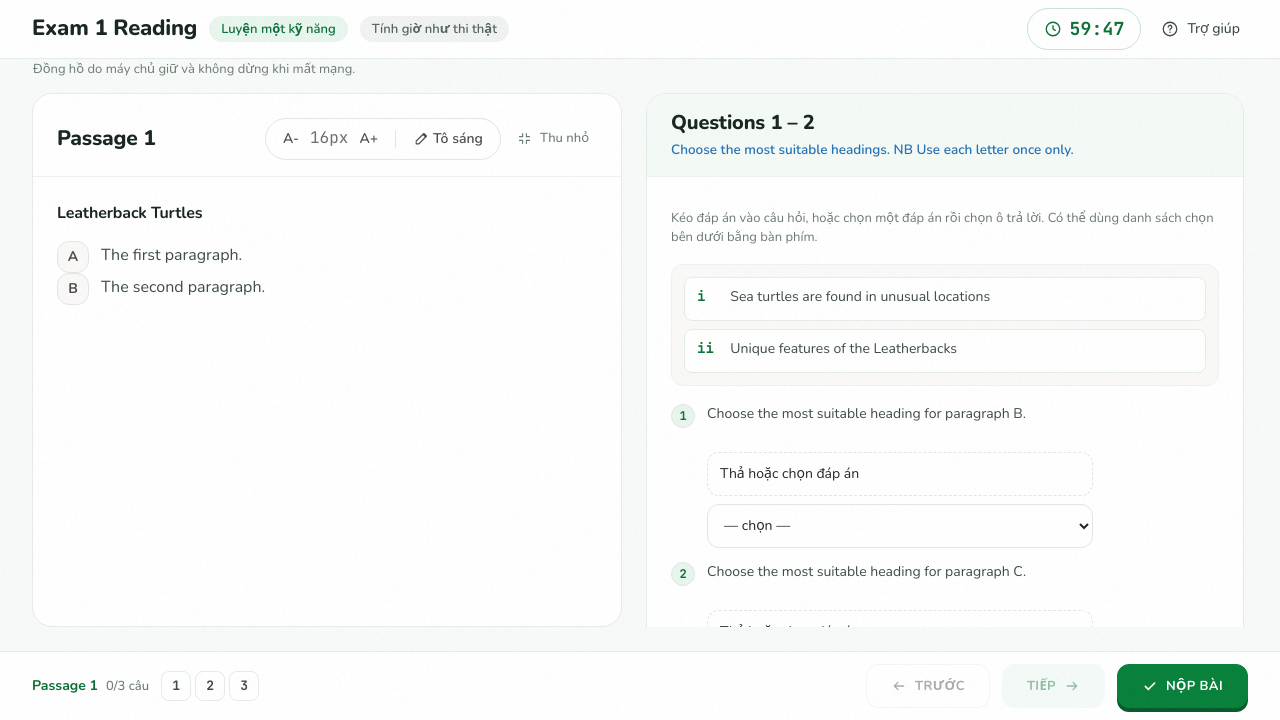
it: assigns a matching answer by tap/click without opening the select
expect the heading "Leatherback Turtles" is shown: met, box [57,202,202,224]
Click the button named "iSea turtles are found in unusual locations": (945, 299) [684,277,1206,321]
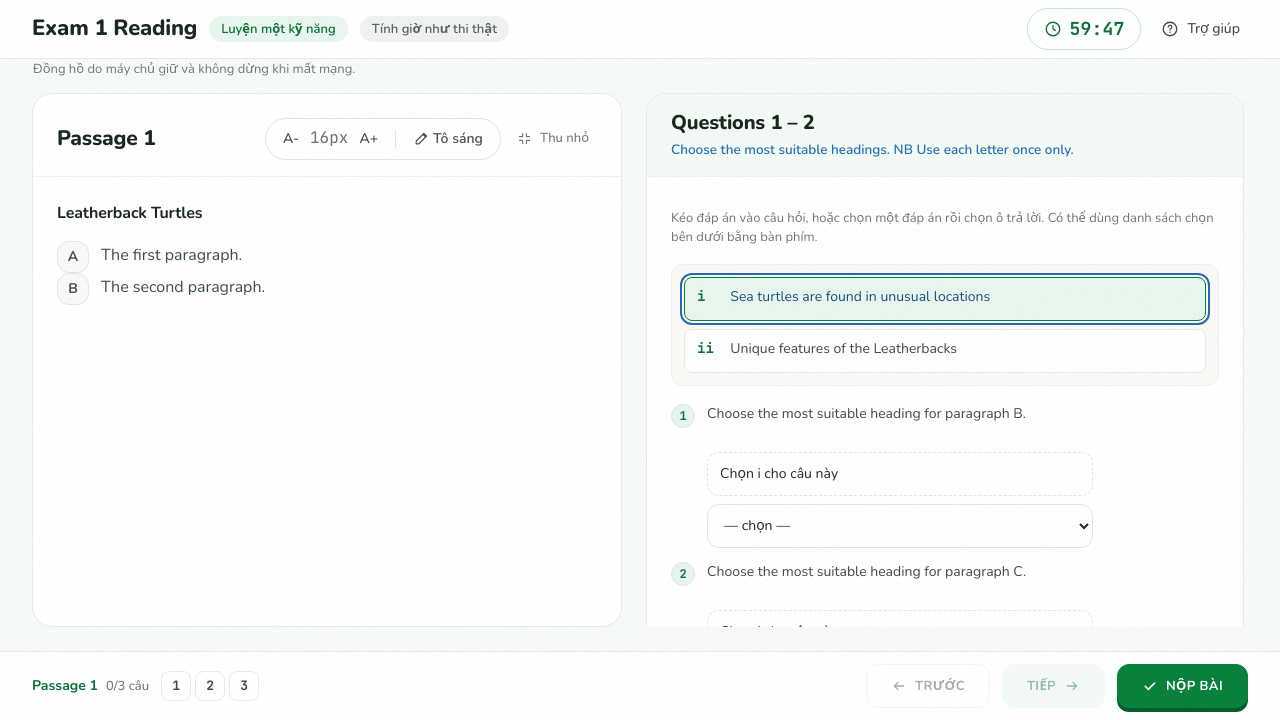
Click the button named "Choose the most suitable heading for paragraph B": (779, 474) [707,452,1094,496]
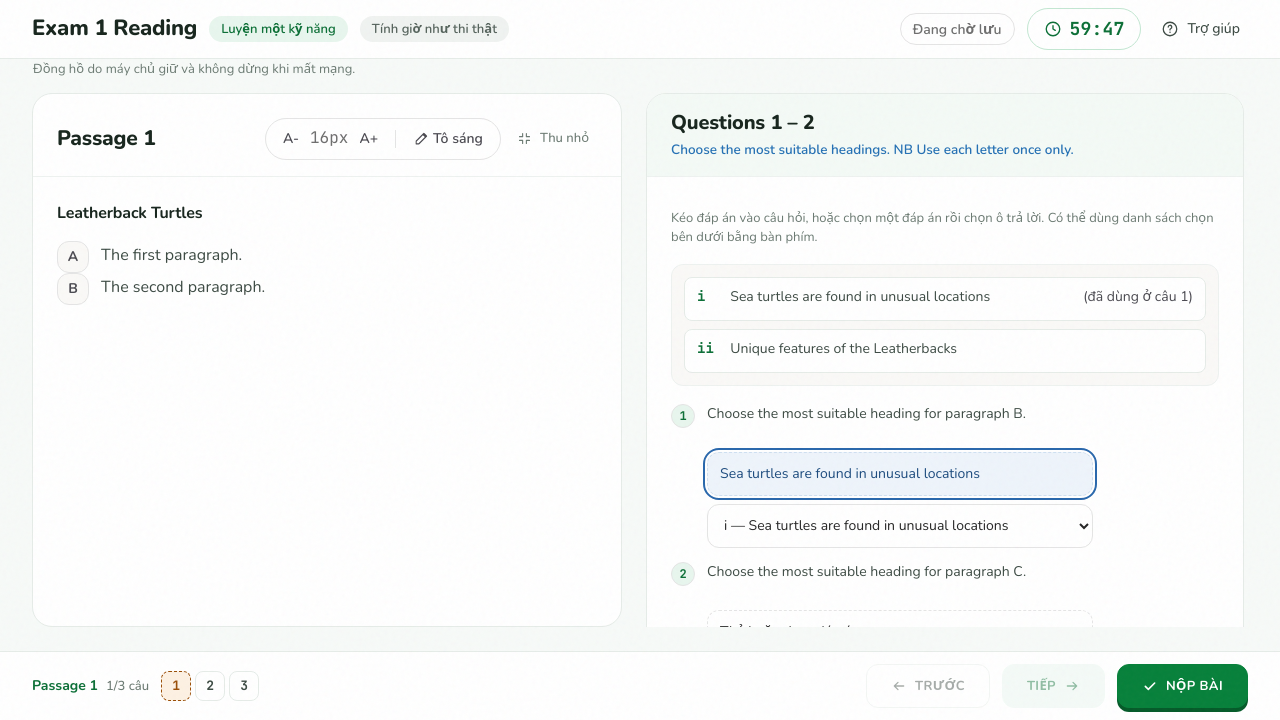
expect the dropdown labelled "1 Choose the most suitable heading for paragraph B." shows "i — Sea turtles are found in unusual locations": met, box [707,504,1094,548]
